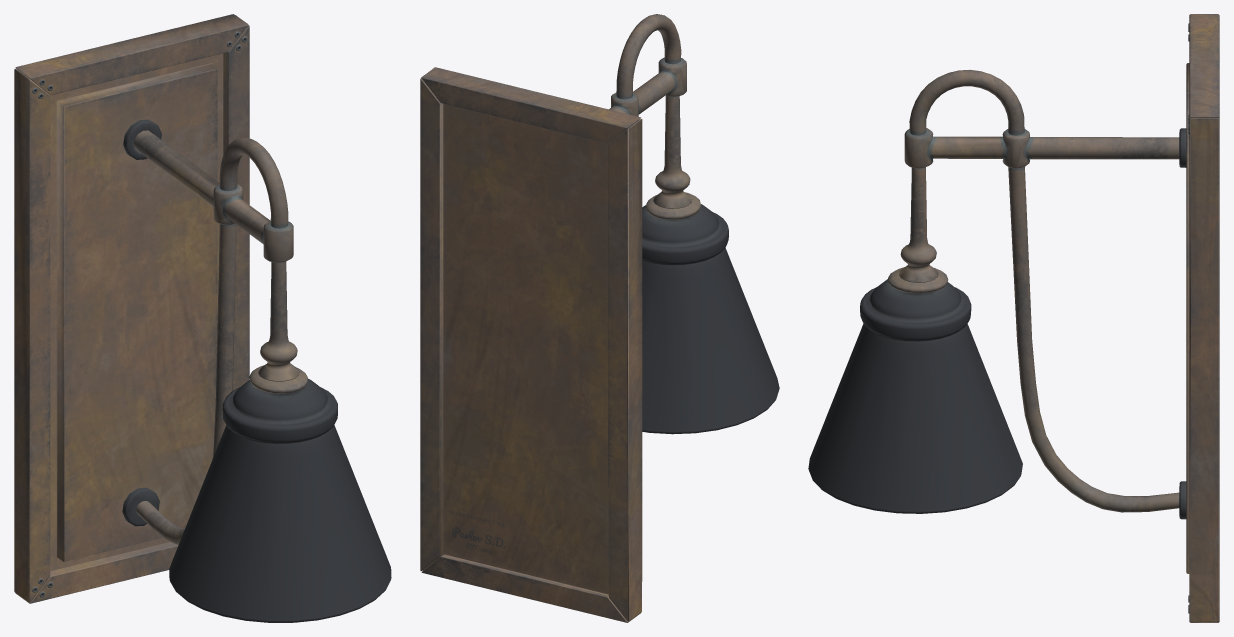
Rendered from industrial_wall_sconce.glb.
3 renders of one model, left to right at view 1: azimuth 30°, elevation 25°; view 2: azimuth 150°, elevation 25°; view 3: azimuth 270°, elevation 25°, orthographic. The views are drawn at different scales.
Visible parts, largest first — view 1: industrial_wall_sconce; view 2: industrial_wall_sconce; view 3: industrial_wall_sconce.
Boxes of the visible parts, x1,y1,x2,y2 form: industrial_wall_sconce: [14, 14, 391, 622]; industrial_wall_sconce: [420, 14, 779, 622]; industrial_wall_sconce: [808, 14, 1219, 622].
Bounding box in the file's own units: 0.1503 × 0.3418 × 0.2516.
2 materials, 2 textured.
